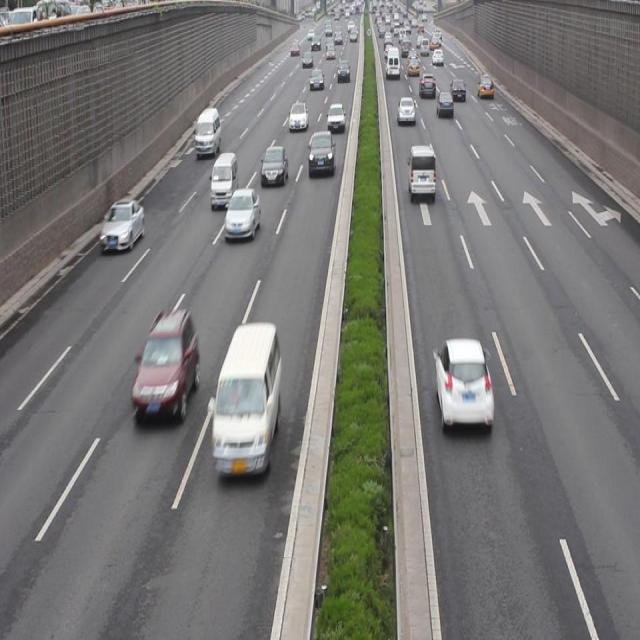car: (132, 309, 199, 426), (433, 341, 492, 434), (99, 199, 144, 253), (223, 189, 260, 240), (307, 130, 333, 176), (260, 144, 286, 185), (326, 103, 344, 134), (289, 100, 306, 130)
truck: (210, 322, 279, 476), (407, 142, 434, 200), (195, 107, 222, 160), (211, 151, 236, 207)
